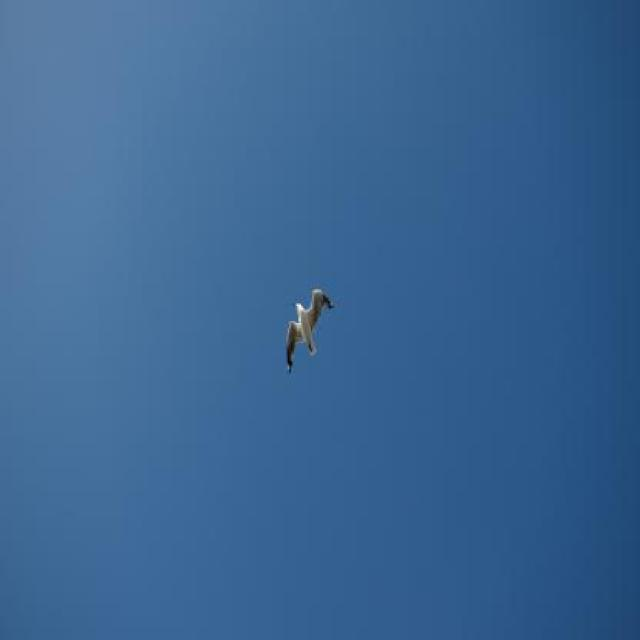bird: (287, 289, 335, 374)
